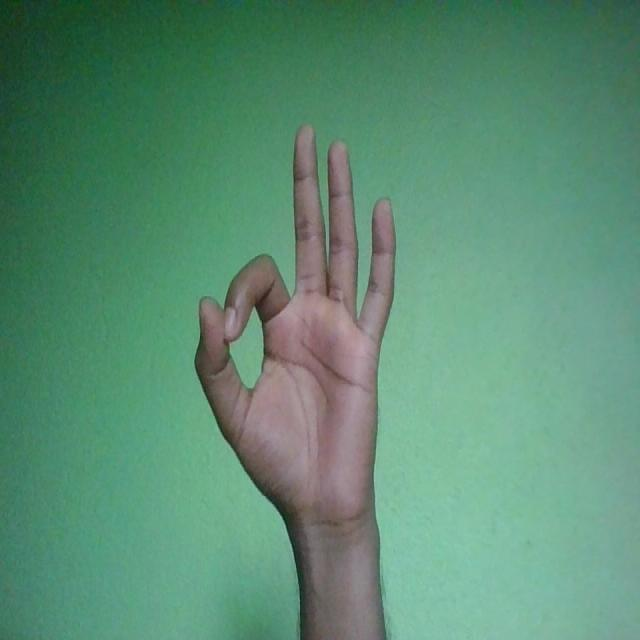Rock On: (194, 121, 397, 534)
